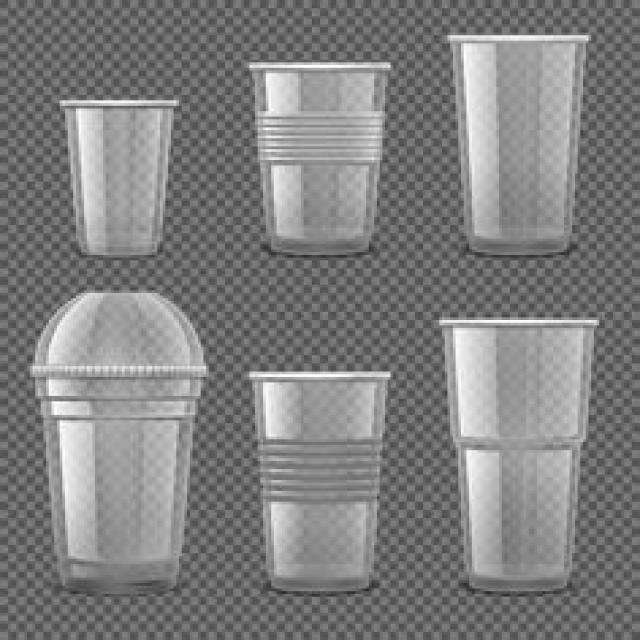bottle: (444, 319, 598, 592), (31, 361, 206, 592), (449, 35, 589, 254), (253, 371, 390, 592), (251, 62, 391, 254), (62, 100, 179, 257)
